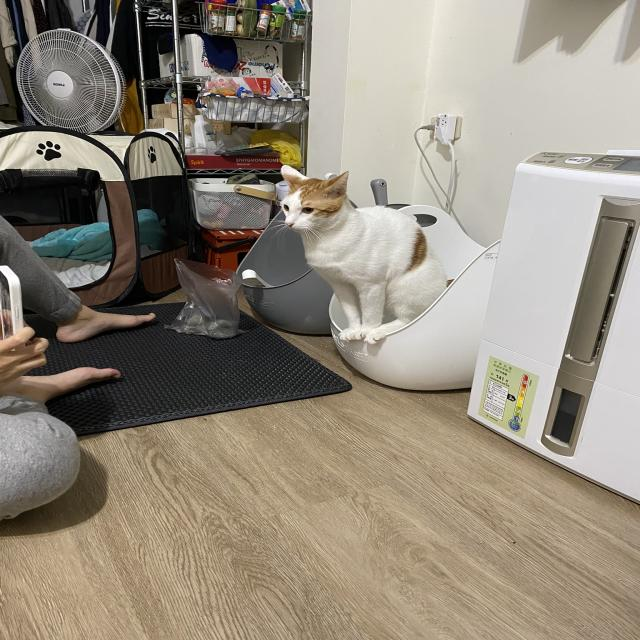cat1: (276, 161, 453, 344)
